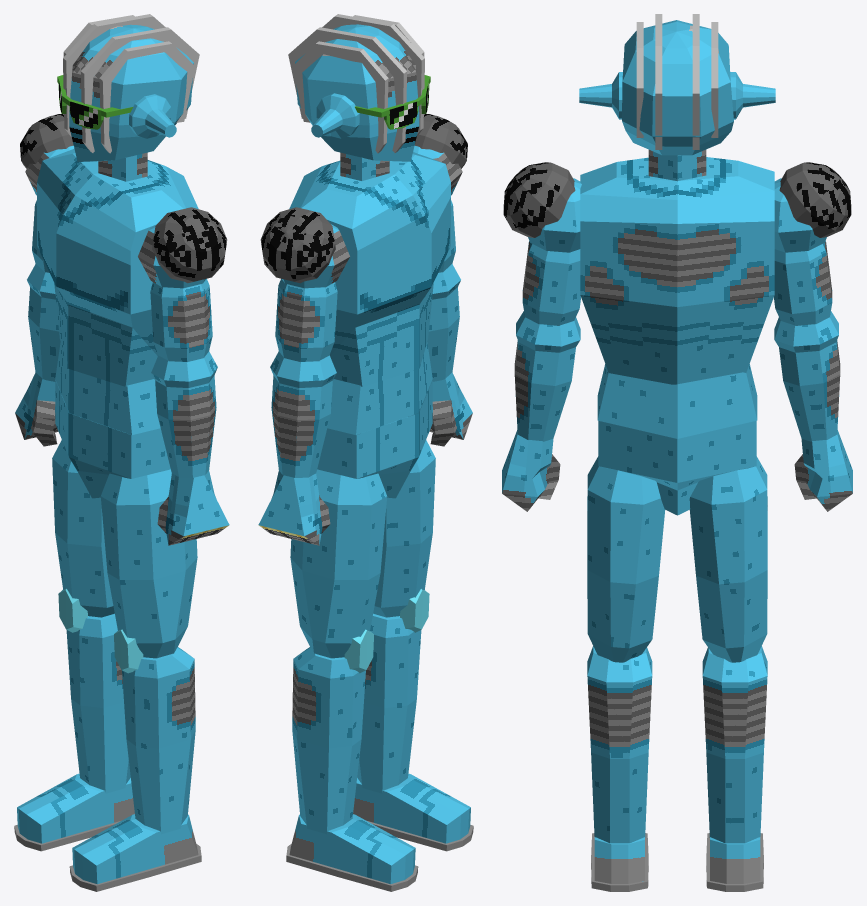
The model's file is Stone.glb.
3 renders of one model, left to right at view 1: azimuth 30°, elevation 25°; view 2: azimuth 150°, elevation 25°; view 3: azimuth 270°, elevation 25°, orthographic. The views are drawn at different scales.
Visible parts, largest first — view 1: Torso, Cabeça, Perna Cima E, Perna Baixo E, Pélvis, Braço Cima E, Perna Baixo D, Perna Cima D, Pé E, Braço Baixo E, Pé D, Mão E (+3 smaller); view 2: Torso, Cabeça, Perna Cima D, Perna Baixo D, Pélvis, Braço Cima D, Perna Baixo E, Perna Cima E, Pé D, Braço Baixo D, Pé E, Mão D (+3 smaller); view 3: Torso, Pélvis, Cabeça, Perna Cima D, Perna Cima E, Perna Baixo E, Perna Baixo D, Braço Cima E, Braço Cima D, Braço Baixo E, Braço Baixo D, Mão E (+3 smaller).
Part boxes in pixels (box(x1,y1,x2,y2)): Torso: box(37, 149, 198, 386); Cabeça: box(57, 14, 199, 161); Perna Cima E: box(100, 469, 197, 658); Perna Baixo E: box(114, 629, 195, 834); Pélvis: box(55, 342, 170, 498); Braço Cima E: box(138, 207, 227, 361); Perna Baixo D: box(58, 588, 130, 793); Perna Cima D: box(52, 418, 114, 617); Pé E: box(69, 814, 201, 891); Braço Baixo E: box(151, 351, 217, 477); Pé D: box(14, 773, 134, 851); Mão E: box(157, 471, 229, 545); Torso: box(289, 152, 450, 386); Cabeça: box(288, 14, 430, 161); Perna Cima D: box(290, 469, 387, 658); Perna Baixo D: box(292, 629, 373, 834); Pélvis: box(317, 342, 432, 498); Braço Cima D: box(260, 207, 349, 361); Perna Baixo E: box(357, 589, 429, 793); Perna Cima E: box(373, 418, 435, 617); Pé D: box(286, 814, 418, 891); Braço Baixo D: box(270, 351, 336, 477); Pé E: box(353, 773, 473, 851); Mão D: box(258, 471, 330, 545); Torso: box(580, 149, 774, 384); Pélvis: box(597, 364, 757, 515); Cabeça: box(579, 14, 775, 155); Perna Cima D: box(689, 456, 767, 662); Perna Cima E: box(587, 456, 665, 662); Perna Baixo E: box(587, 646, 652, 843); Perna Baixo D: box(702, 646, 767, 843); Braço Cima E: box(503, 162, 581, 325); Braço Cima D: box(774, 162, 851, 325); Braço Baixo E: box(514, 311, 580, 441); Braço Baixo D: box(774, 311, 840, 441); Mão E: box(502, 430, 560, 511).
Bounding box in the file's own units: 1.81 × 10.05 × 3.75.
5 materials, 5 textured.
